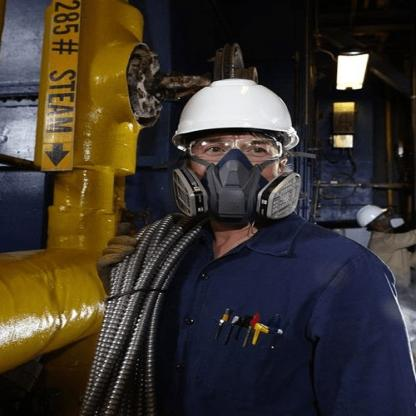capacete: (173, 75, 298, 150)
oculos: (188, 134, 288, 159)
